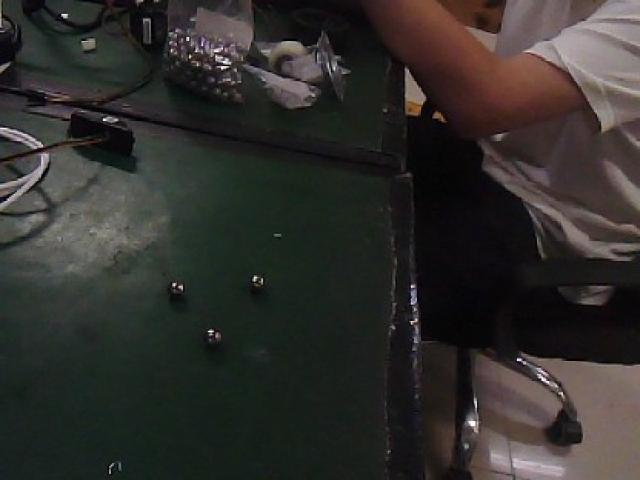steel-ball: (183, 308, 235, 360), (154, 266, 192, 305), (238, 260, 270, 291)
